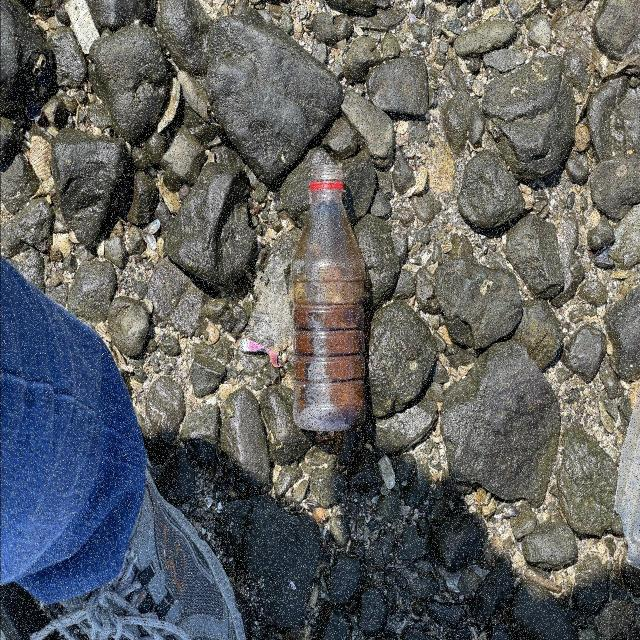plastic_waste: (288, 162, 366, 439), (614, 358, 640, 575)
